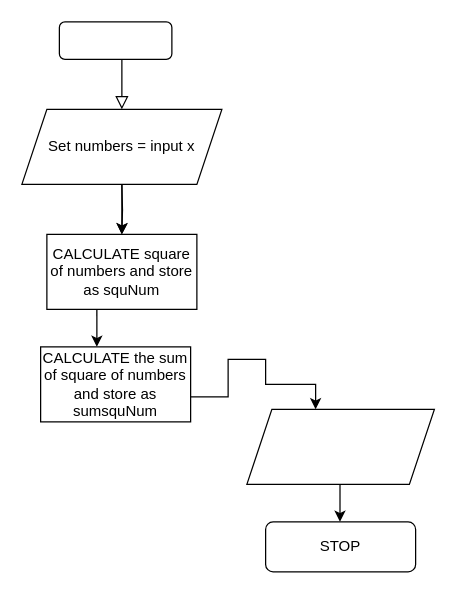
Image size: 456x594. Some labels were removed from this diagram. The centre of each missing label's shape, as x and y in pixels:
PRINT "sumsquNum: [340,446]
START: [115,40]
